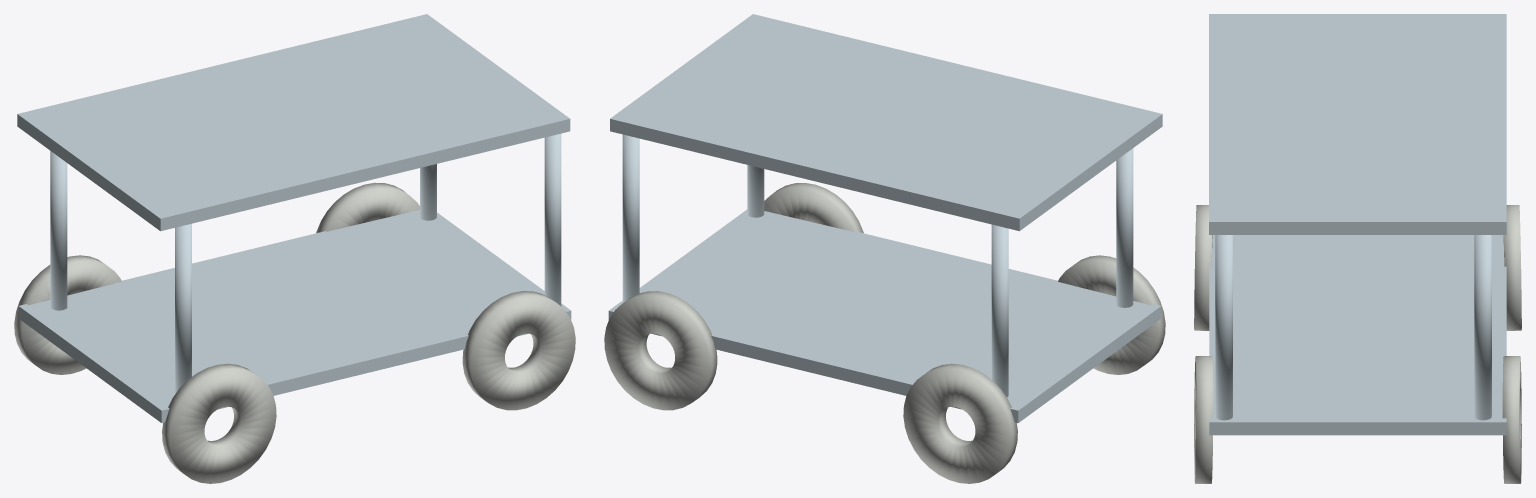
The model's file is kärry.fbx.
3 renders of one model, left to right at view 1: azimuth 30°, elevation 25°; view 2: azimuth 150°, elevation 25°; view 3: azimuth 270°, elevation 25°, orthographic. The views are drawn at different scales.
Visible parts, largest first — view 1: Cylinder.003; view 2: Cylinder.003; view 3: Cylinder.003.
Part boxes in pixels (left/top/right/bottom): Cylinder.003: left=14, top=14, right=575, bottom=483; Cylinder.003: left=604, top=14, right=1165, bottom=483; Cylinder.003: left=1194, top=14, right=1521, bottom=483.
Bounding box in the file's own units: 168 × 106 × 111.
